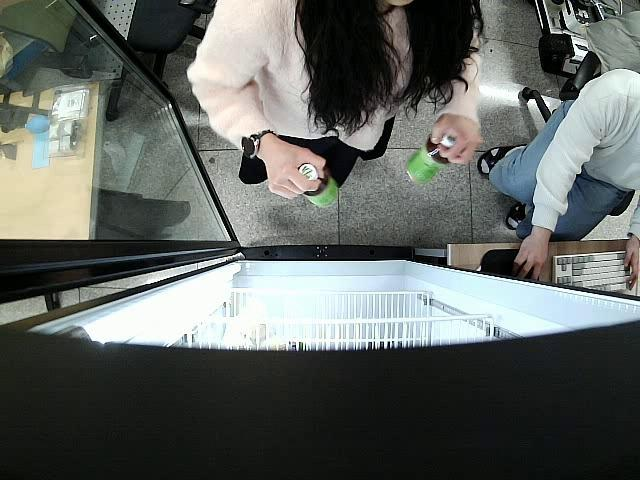19_17cha: (406, 130, 460, 184), (300, 163, 344, 211)
